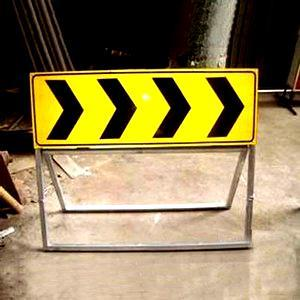sign: (30, 71, 258, 148)
